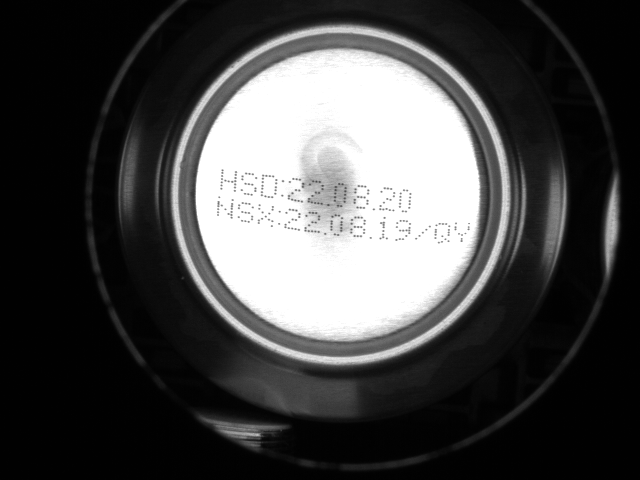/: (416, 222, 431, 243)
0: (398, 190, 420, 214), (335, 178, 351, 209), (327, 215, 347, 238)
1: (374, 217, 392, 242)
2: (291, 174, 309, 205), (313, 178, 331, 206), (302, 211, 323, 234), (283, 207, 302, 230), (381, 187, 397, 212)
8: (348, 215, 370, 239), (356, 183, 373, 211)
9: (393, 218, 414, 244)
D: (262, 175, 283, 199)
H: (221, 168, 244, 195)
N: (213, 198, 235, 221)
Q: (432, 223, 451, 244)
S: (235, 202, 257, 225), (245, 172, 262, 199)
X: (256, 205, 275, 228)
Y: (452, 219, 475, 245)
